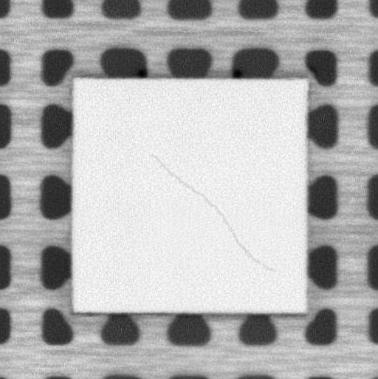DIE_CRACK: (148, 152, 276, 274)
